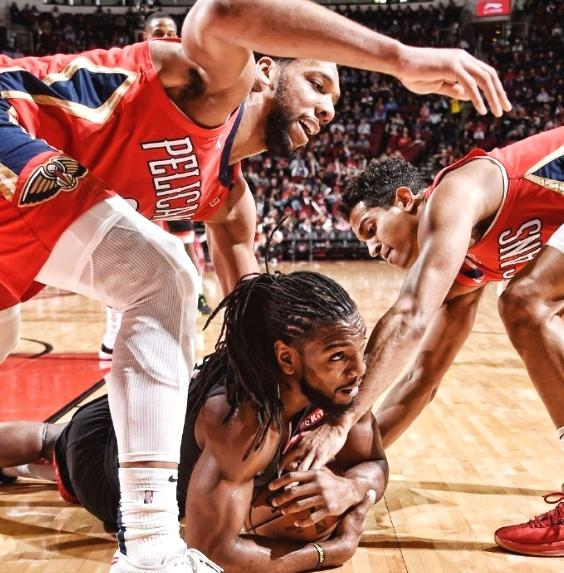10+: (1, 1, 564, 573)
down: (1, 263, 400, 573)
